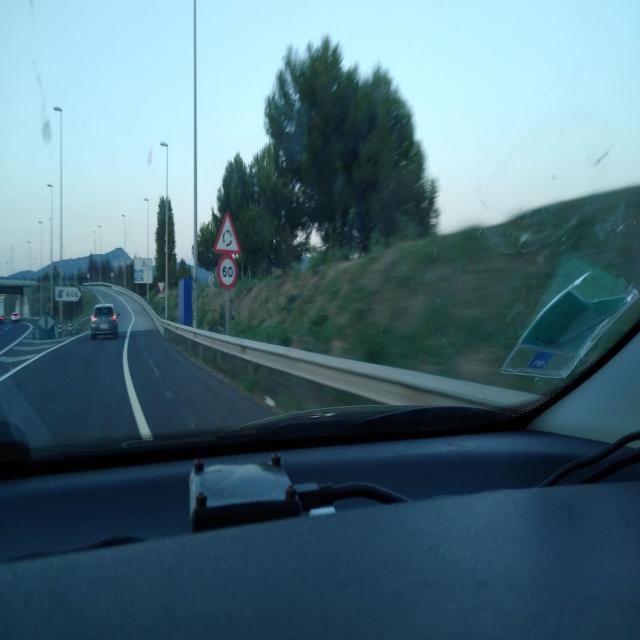car: (89, 302, 119, 340)
